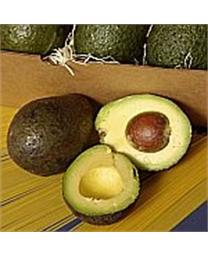avocado: (6, 92, 108, 177), (95, 93, 192, 172), (61, 144, 141, 225)
